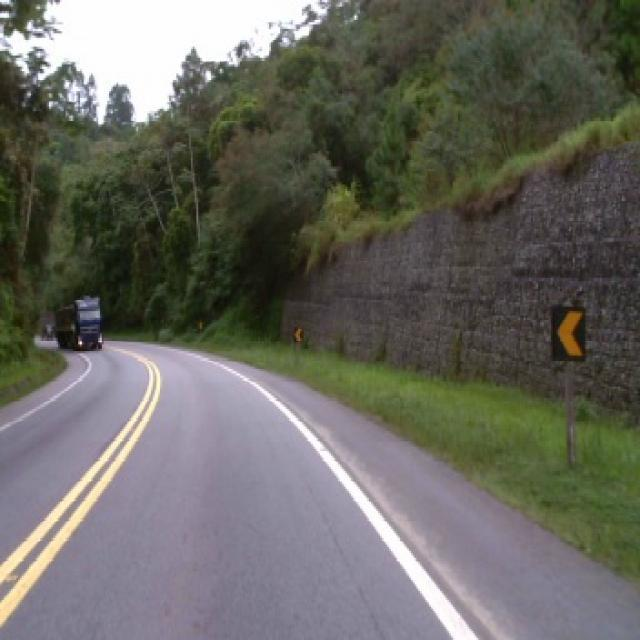Poth-hole: (2, 571, 20, 580)
